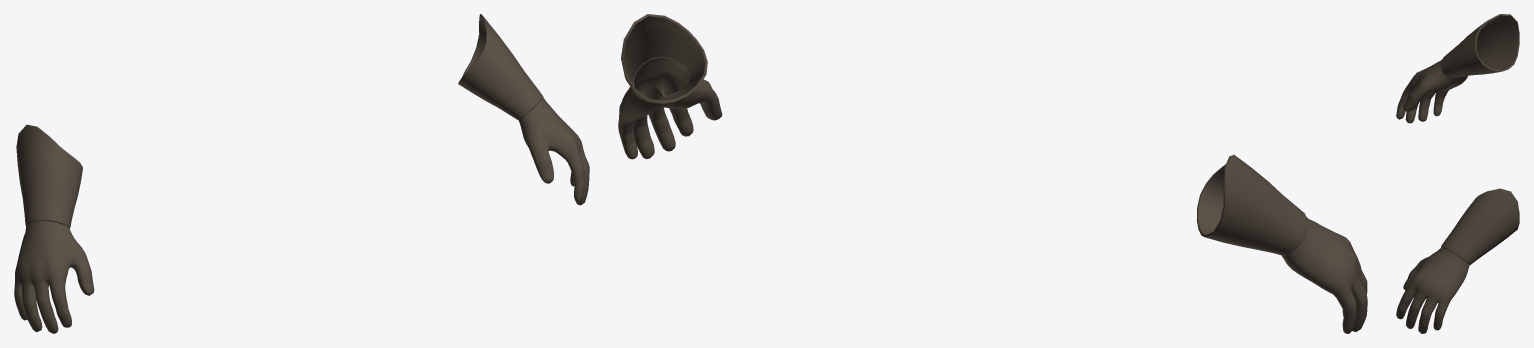
Rendered from highlander-gloves.fbx.
3 views of the same model, side by side, from view 1: azimuth 30°, elevation 25°; view 2: azimuth 150°, elevation 25°; view 3: azimuth 270°, elevation 25° (orthographic). The views are drawn at different scales.
Visible parts, largest first — view 1: gloves_geo; view 2: gloves_geo; view 3: gloves_geo.
Boxes of the visible parts, box(x1,y1,x2,y2) form: gloves_geo: box(14, 14, 589, 333); gloves_geo: box(618, 14, 1367, 333); gloves_geo: box(1396, 14, 1519, 333).
Bounding box in the file's own units: 111 × 29.62 × 26.25.
